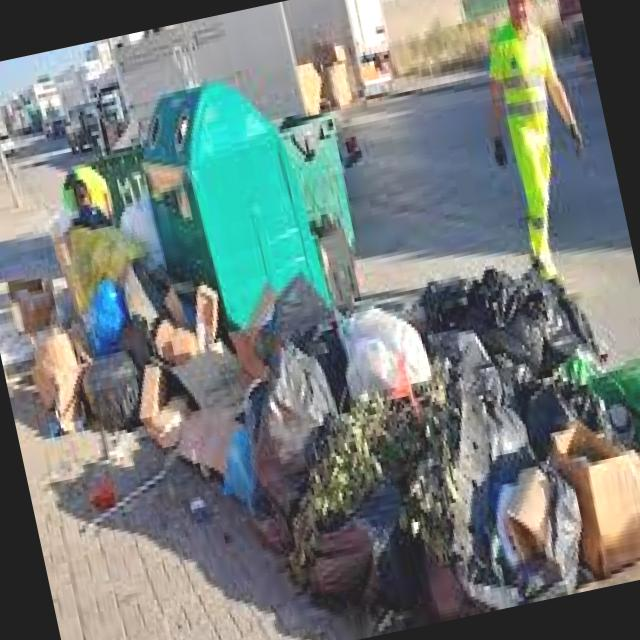garbage: (210, 221, 640, 640), (0, 182, 244, 525)
